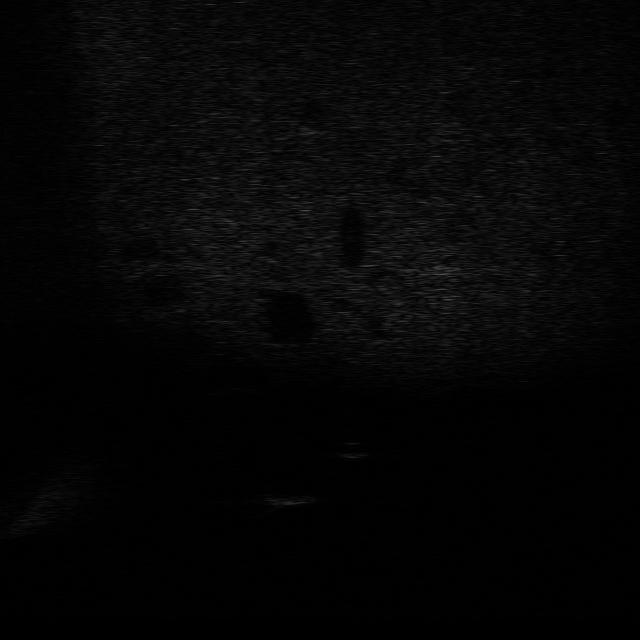ball: (325, 437, 375, 462)
square cage: (246, 482, 324, 518)
